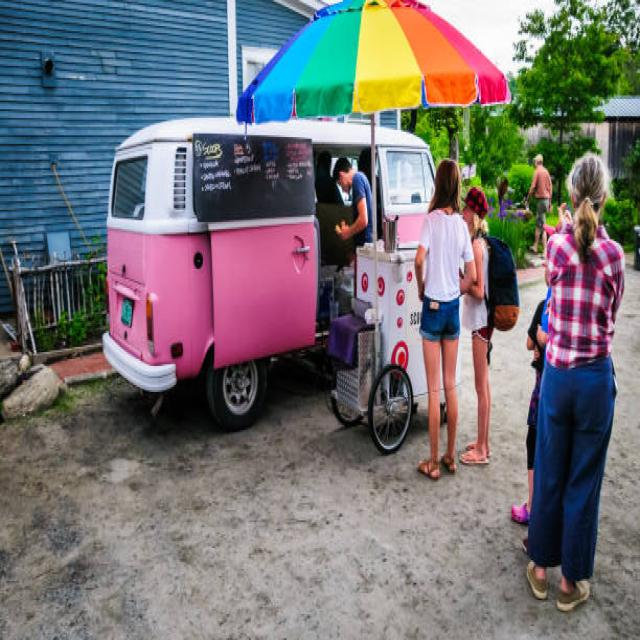Emperan: (77, 0, 520, 482)
